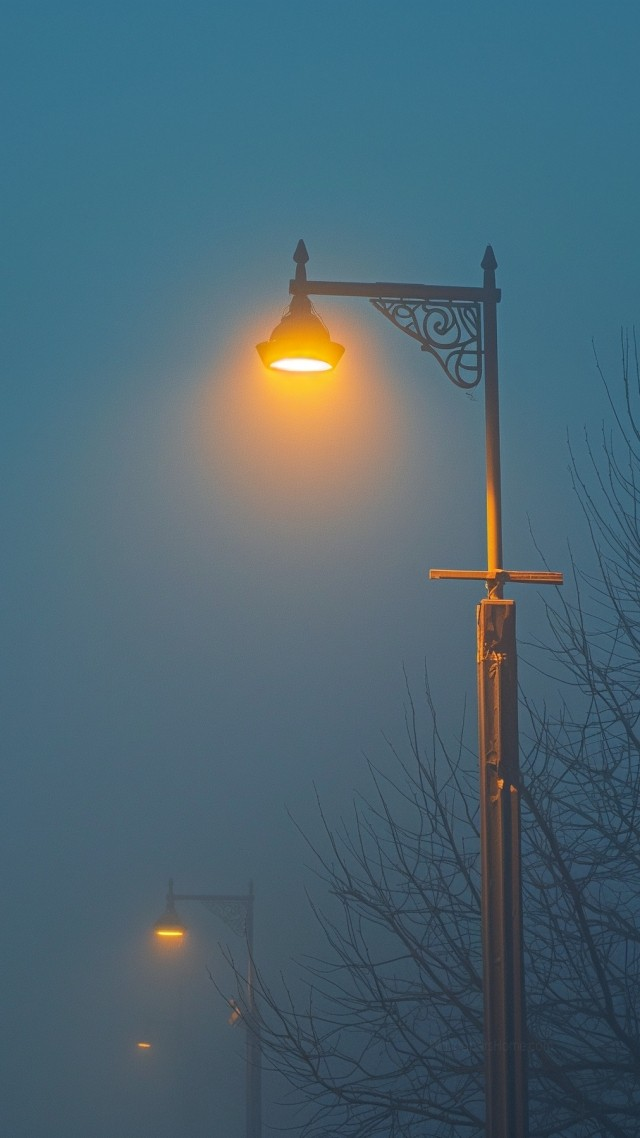Lamp: (235, 218, 593, 1138), (130, 881, 279, 1136)
